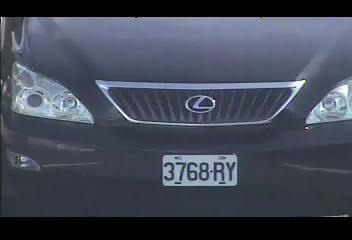plate: (160, 152, 238, 188)
